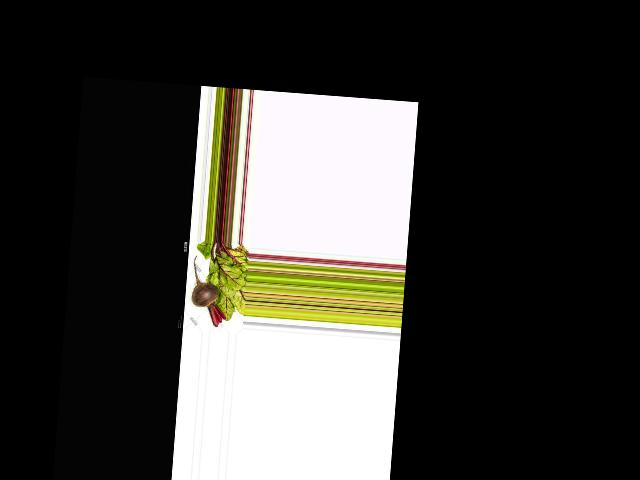beet: (188, 256, 230, 327)
